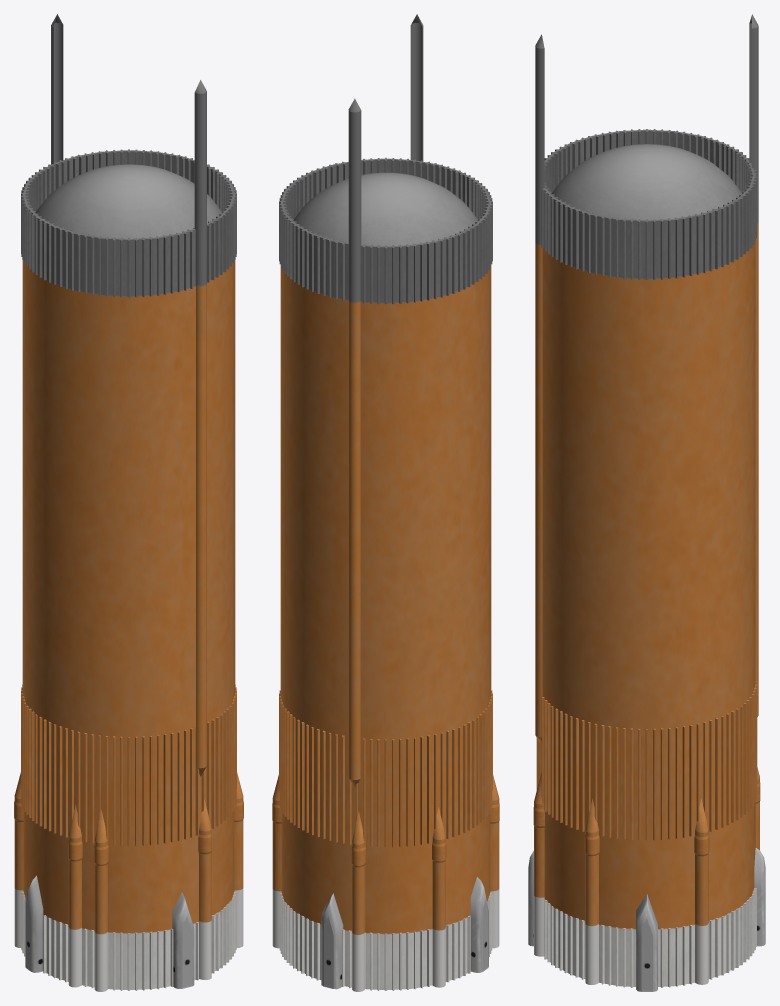
The model's file is ksprocket.fbx.
The picture shows the model from 3 angles, left to right: view 1: azimuth 30°, elevation 25°; view 2: azimuth 150°, elevation 25°; view 3: azimuth 270°, elevation 25°; orthographic projection. The views are drawn at different scales.
Parts seen in each view (by area): view 1: tank.007, bits.004; view 2: tank.007, bits.004; view 3: tank.007, bits.004.
Part boxes in pixels (x1,y1,x2,y2): tank.007: [21, 149, 236, 990]; bits.004: [14, 14, 243, 991]; tank.007: [279, 157, 492, 990]; bits.004: [272, 14, 499, 991]; tank.007: [536, 129, 757, 987]; bits.004: [528, 14, 765, 991].
Size of the model in its own units: 1103 by 4809 by 1103.
